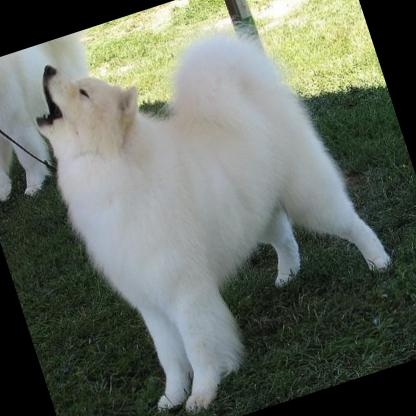Samoyed: (17, 0, 416, 416)
